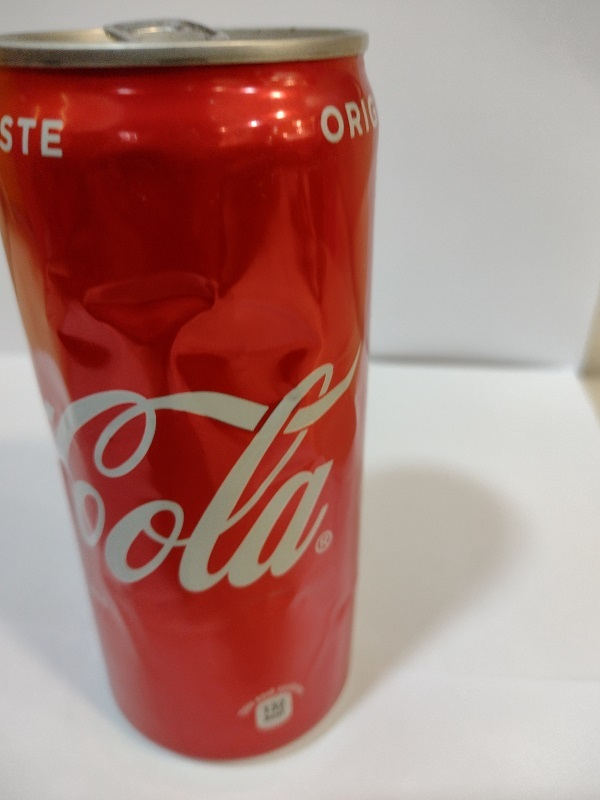can: (3, 13, 398, 770)
